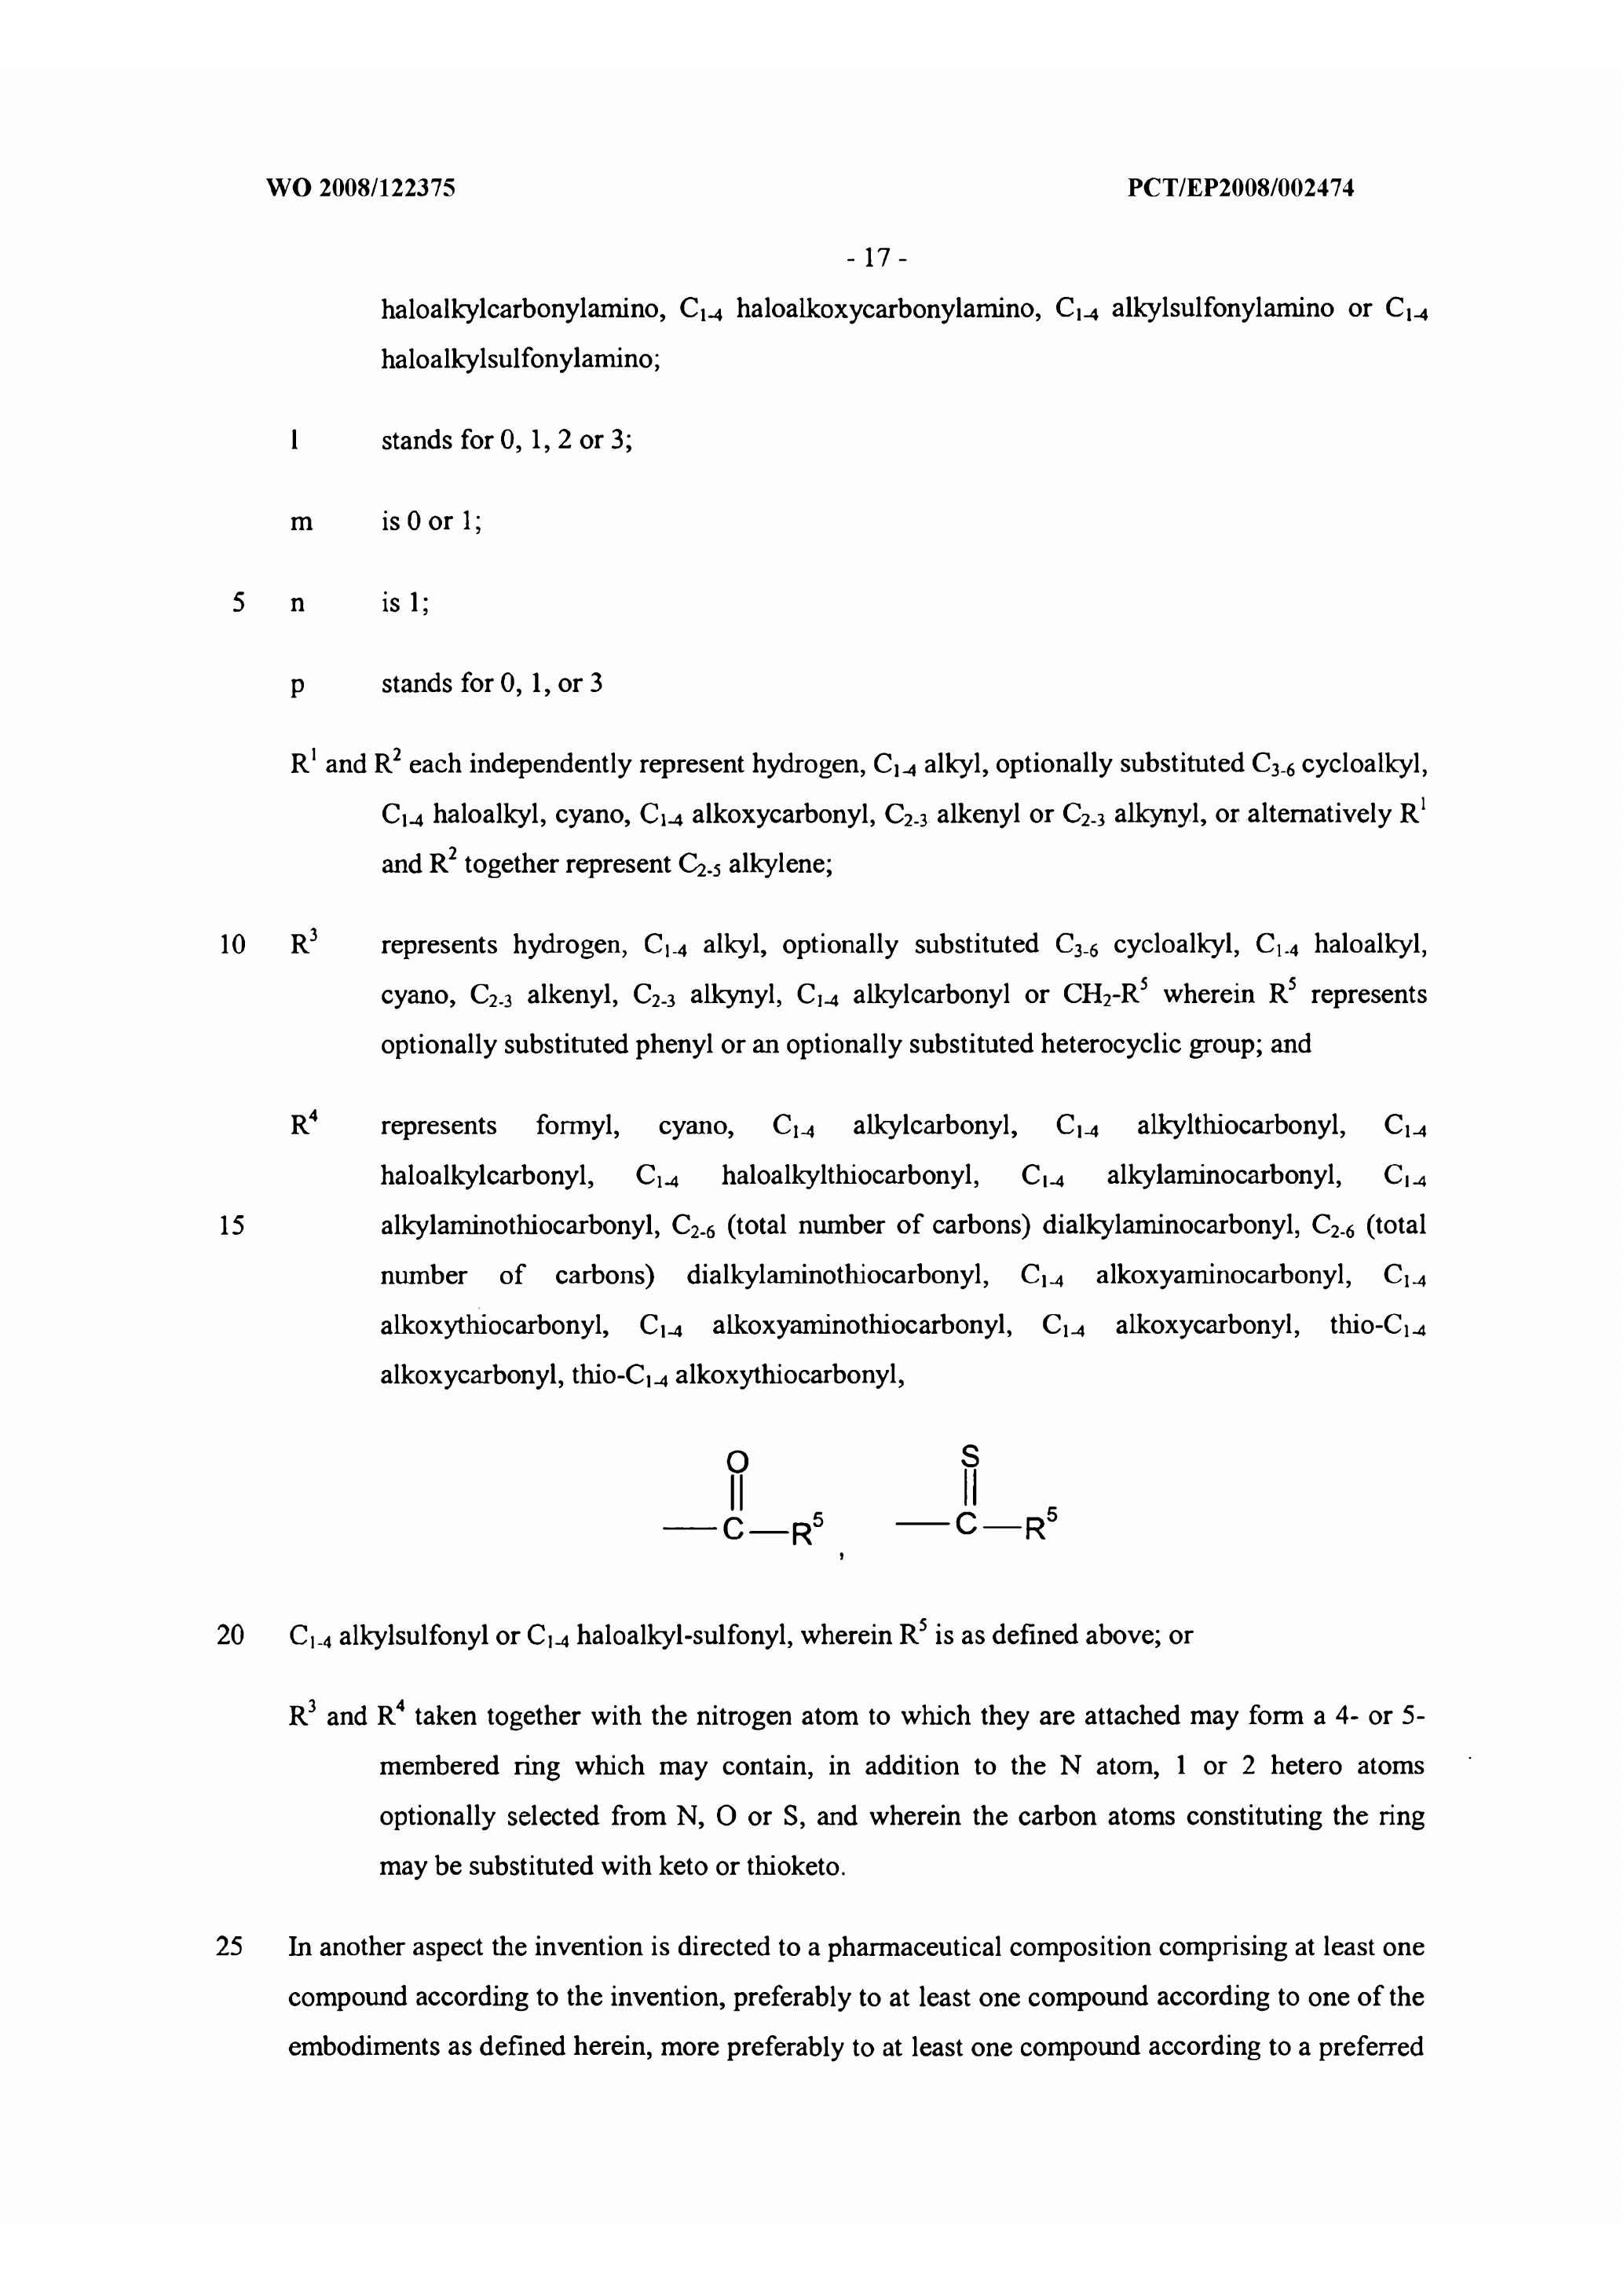substitutes: (239, 1065, 1480, 1633)
